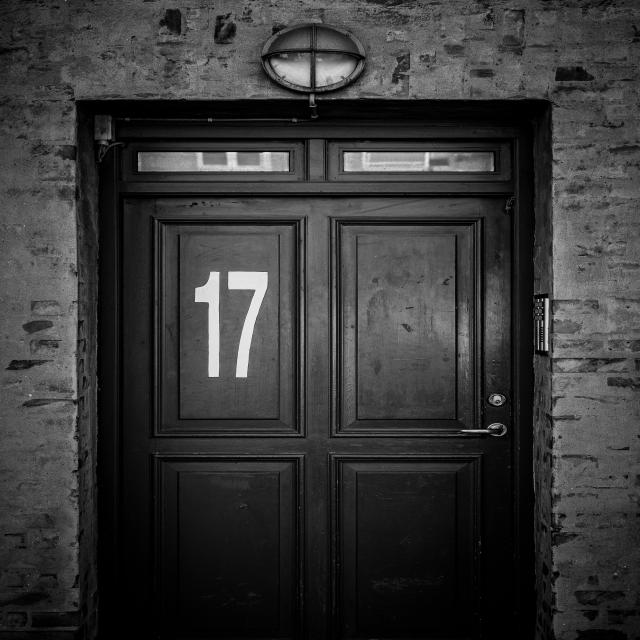door-handle: (459, 423, 507, 437)
